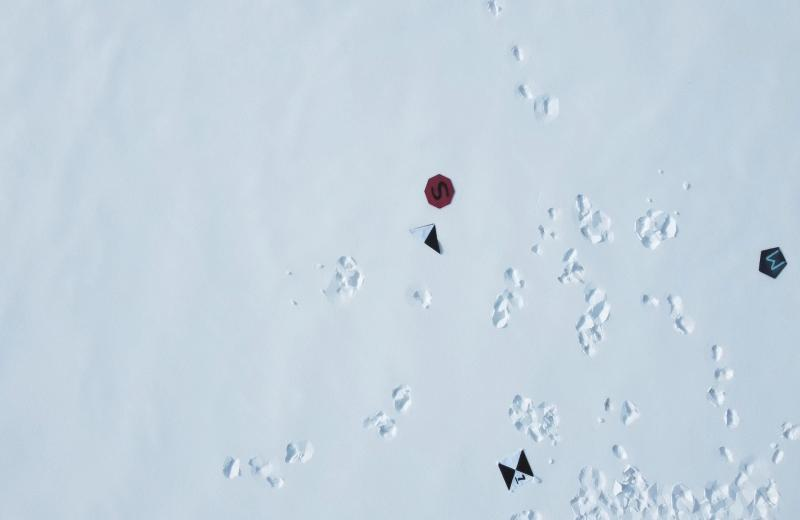Octagon: (422, 170, 456, 214)
Pentagon: (757, 245, 789, 280)
